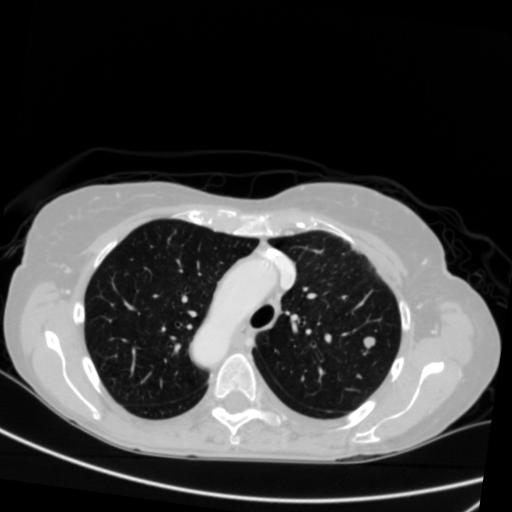nodule: (364, 333, 382, 351)
